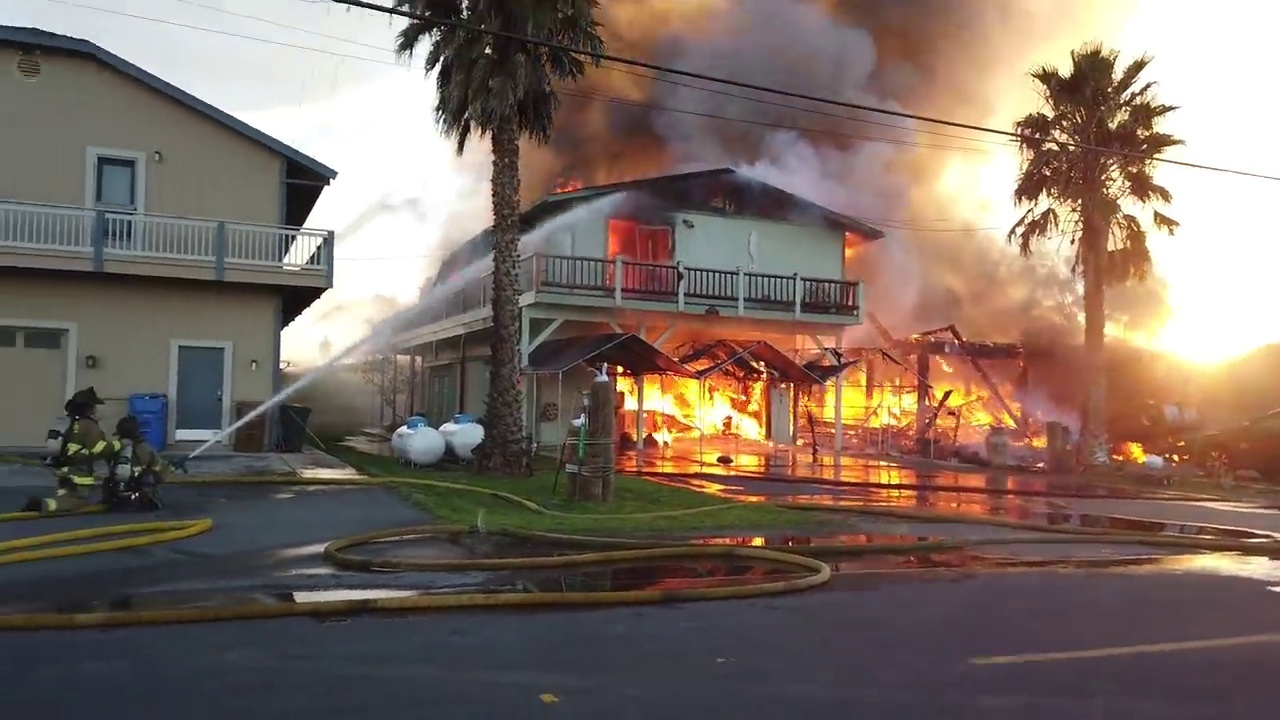fire: (1008, 23, 1195, 369), (788, 353, 1019, 461), (331, 148, 497, 288), (609, 360, 764, 468), (604, 222, 677, 293), (1102, 440, 1187, 466), (1016, 419, 1058, 458), (842, 224, 869, 270), (550, 169, 586, 190)
smoke: (574, 1, 1027, 224), (875, 229, 1008, 343), (1019, 389, 1081, 429)
